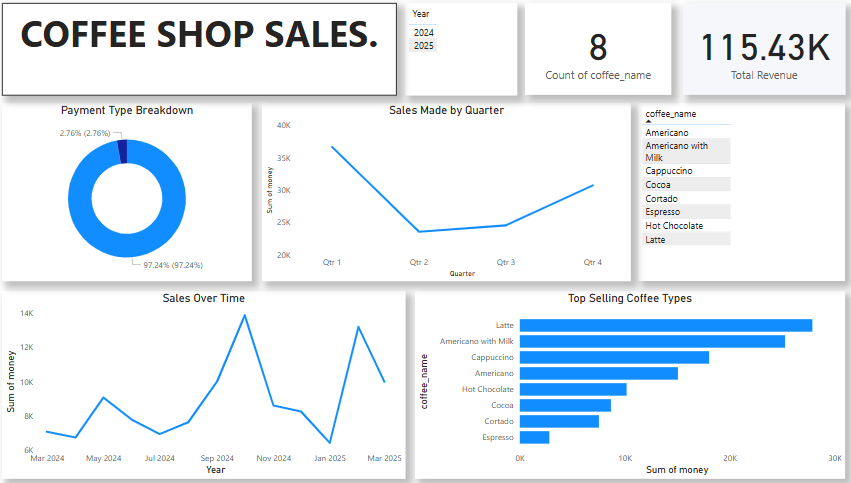

The page's visual inventory and layout, read from the dashboard file:
{"tool":"powerbi","page":{"name":"Page 1","canvas":[1280,720],"ordinal":0},"visuals":[{"type":"lineChart","title":"Sales Over Time","fields":{"Y":["Sum(index_1.money)"],"Category":["index_1.date.Variation.Date Hierarchy.Year","index_1.date.Variation.Date Hierarchy.Month"]},"box":[18.8,433.7,592.8,276.1],"z":0},{"type":"donutChart","title":"Payment Type Breakdown ","fields":{"Category":["index_1.cash_type"],"Y":["Sum(index_1.money)"]},"box":[18.8,157.6,367.2,261.7],"z":1000},{"type":"barChart","title":"Top Selling Coffee Types","fields":{"Y":["Sum(index_1.money)"],"Category":["index_1.coffee_name"]},"box":[626,433.7,631.8,276.1],"z":2000},{"type":"lineChart","title":"Sales Made by Quarter","fields":{"Category":["index_1.time.Variation.Date Hierarchy.Quarter"],"Y":["Sum(index_1.money)"]},"box":[400.5,157.6,542.2,261.7],"z":3000},{"type":"tableEx","title":"C","fields":{"Values":["index_1.coffee_name"]},"box":[954.2,157.6,303.6,261.7],"z":4000},{"type":"tableEx","fields":{"Values":["index_1.date.Variation.Date Hierarchy.Year"]},"box":[611.6,10.1,164.8,135.9],"z":5000},{"type":"textbox","box":[18.8,10.1,579.8,135.9],"z":6000},{"type":"card","fields":{"Values":["Count(index_1.coffee_name)"]},"box":[786.5,10.1,192.3,135.9],"z":7000},{"type":"card","fields":{"Values":["index_1.Total Revenue"]},"box":[990.4,10.1,267.5,140.2],"z":8000}]}

Visuals, with their boxes in screenshot pixels (x1, y1, x2, y2), scaled from the page's 1280x720 canvas onto the 851x483 screenshot:
"Sales Over Time" lineChart: detection(12, 291, 407, 476)
"Payment Type Breakdown " donutChart: detection(12, 106, 257, 281)
"Top Selling Coffee Types" barChart: detection(416, 291, 836, 476)
"Sales Made by Quarter" lineChart: detection(266, 106, 627, 281)
"C" tableEx: detection(634, 106, 836, 281)
tableEx - index_1.date.Variation.Date Hierarchy.Year: detection(407, 7, 516, 98)
textbox: detection(12, 7, 398, 98)
card - Count(index_1.coffee_name): detection(523, 7, 651, 98)
card - index_1.Total Revenue: detection(658, 7, 836, 101)
